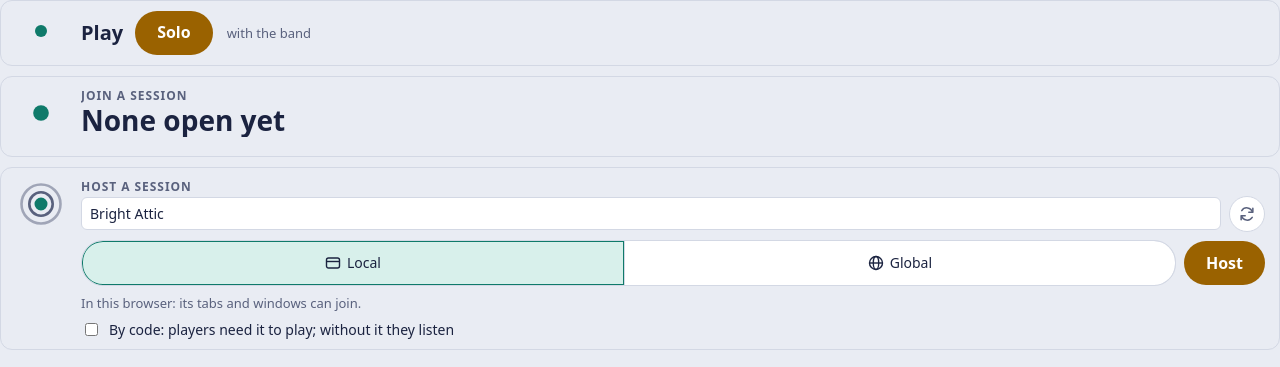
Test: the lobby, the door to the band › starts with a made-up session name, and another on request
Expected: the field named "Session name" holds "Bright Attic", x1=81 y1=197 x2=1221 y2=230
Click the button named "Regenerate session name" at coordinates (1247, 214), box x1=1229 y1=196 x2=1265 y2=232
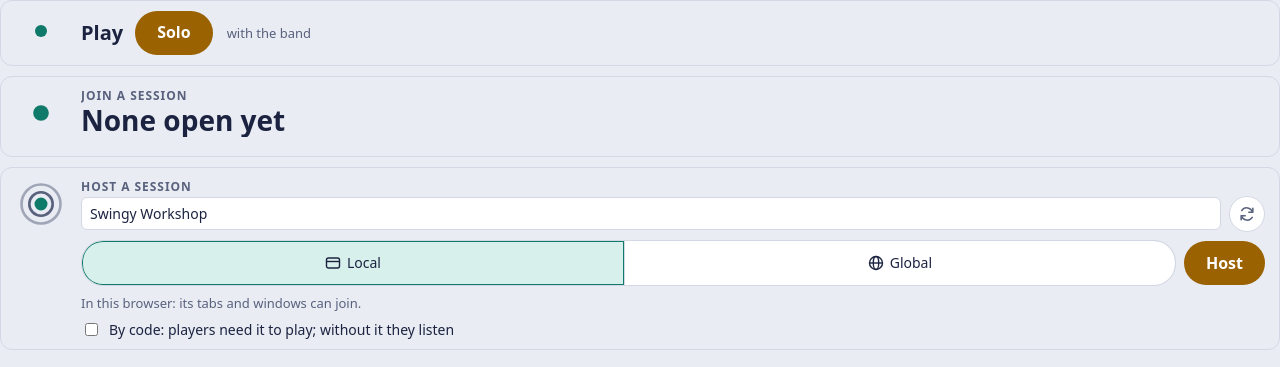
Expected: the field named "Session name" holds "Swingy Workshop", x1=81 y1=197 x2=1221 y2=230
